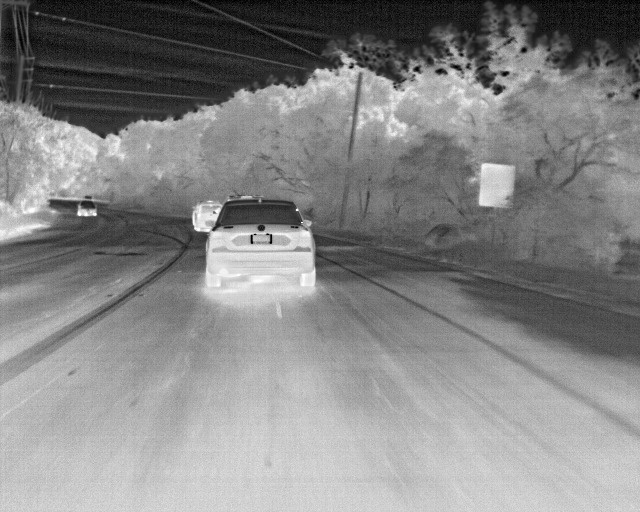vehicle: (207, 198, 314, 297), (192, 200, 222, 232), (77, 200, 97, 220)
